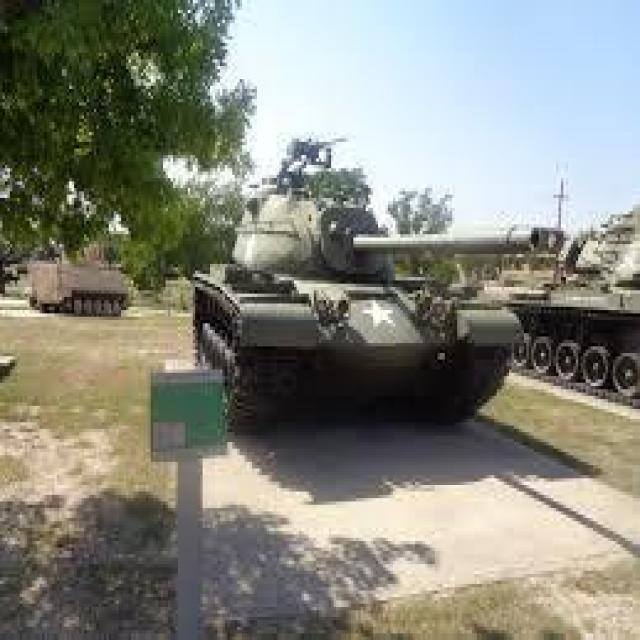Tanks: (195, 132, 514, 432), (546, 152, 638, 426), (26, 229, 142, 325)
